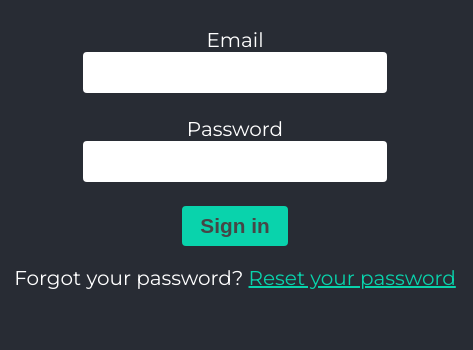
Scenario: Login form error handling › it should warn for empty password
Type "bob@bobsworld.com" into the field labelled "Email" at (235, 72), box left=83, top=52, right=387, bottom=93
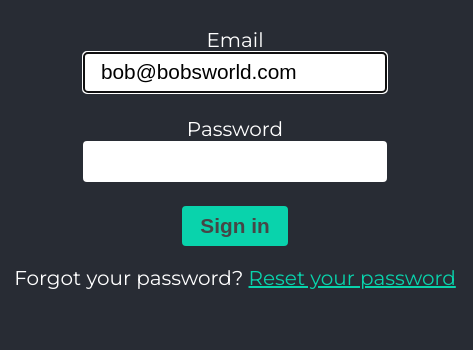
Click the button at (235, 226), box left=182, top=206, right=288, bottom=246
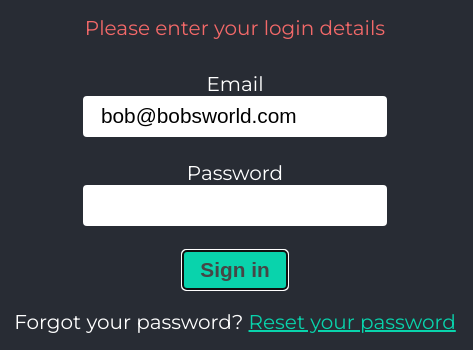
Result: the text with test id "login-errors" reads "Please enter your login details" at left=85, top=16, right=385, bottom=40
